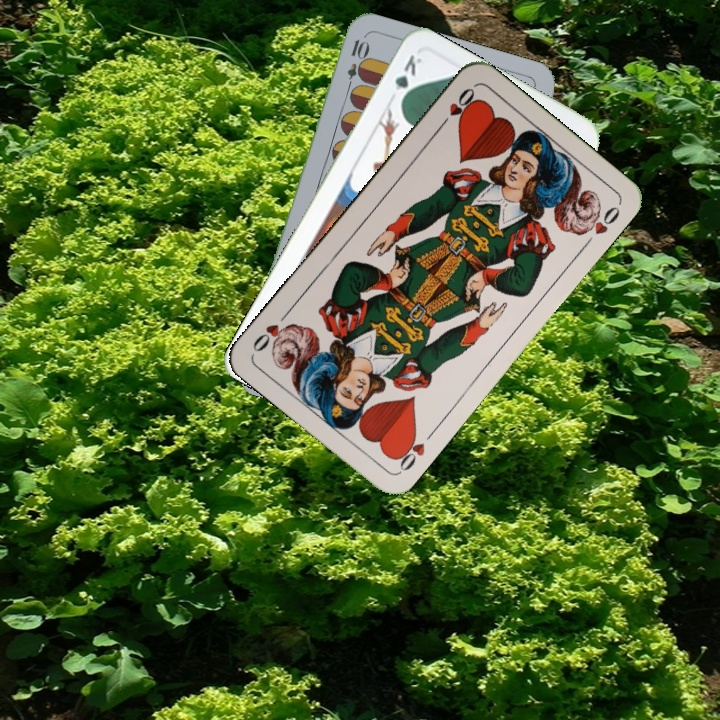E10: (342, 35, 369, 94)
GK: (390, 50, 425, 108)
HO: (390, 426, 438, 476), (434, 83, 479, 132)
